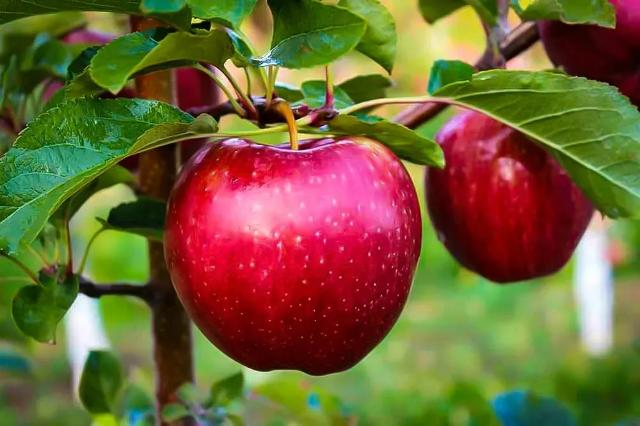Apple: (165, 138, 421, 376), (425, 111, 592, 283), (539, 0, 640, 107), (176, 68, 219, 110)
